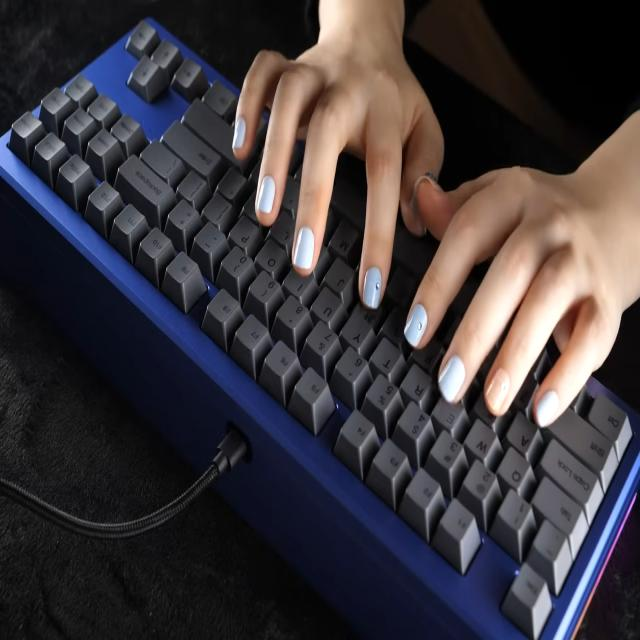keyboard-with-hands: (0, 16, 640, 640)
